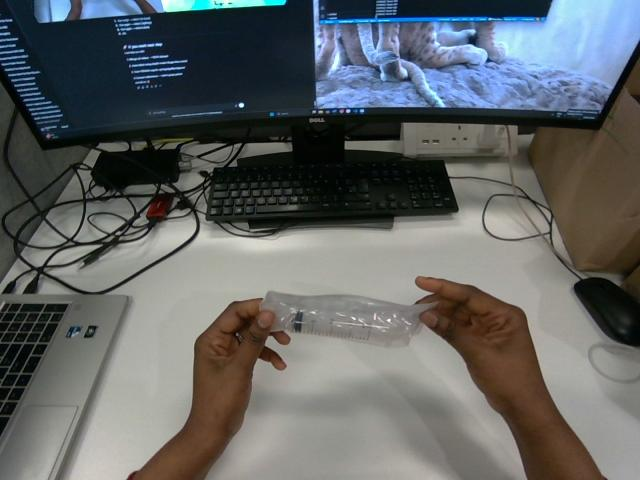syringe: (260, 291, 435, 346)
